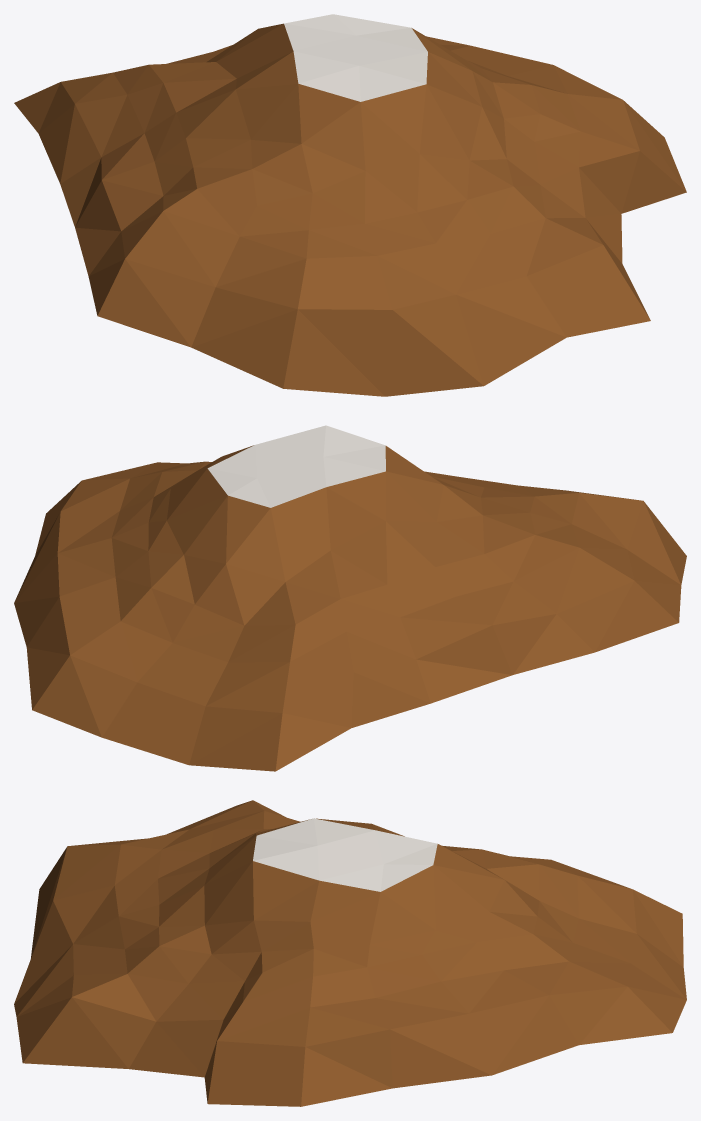
Rendered from snow_relief_2.fbx.
3 views of the same model, one above another, from view 1: azimuth 30°, elevation 25°; view 2: azimuth 150°, elevation 25°; view 3: azimuth 270°, elevation 25° (orthographic). The views are drawn at different scales.
Parts seen in each view (by area): view 1: Icosphere.056; view 2: Icosphere.056; view 3: Icosphere.056.
Part boxes in pixels (x1,y1,x2,y2): Icosphere.056: (14,14,686,396); Icosphere.056: (14,425,686,771); Icosphere.056: (14,800,686,1106).
Bounding box in the file's own units: 1167 × 348 × 1202.
